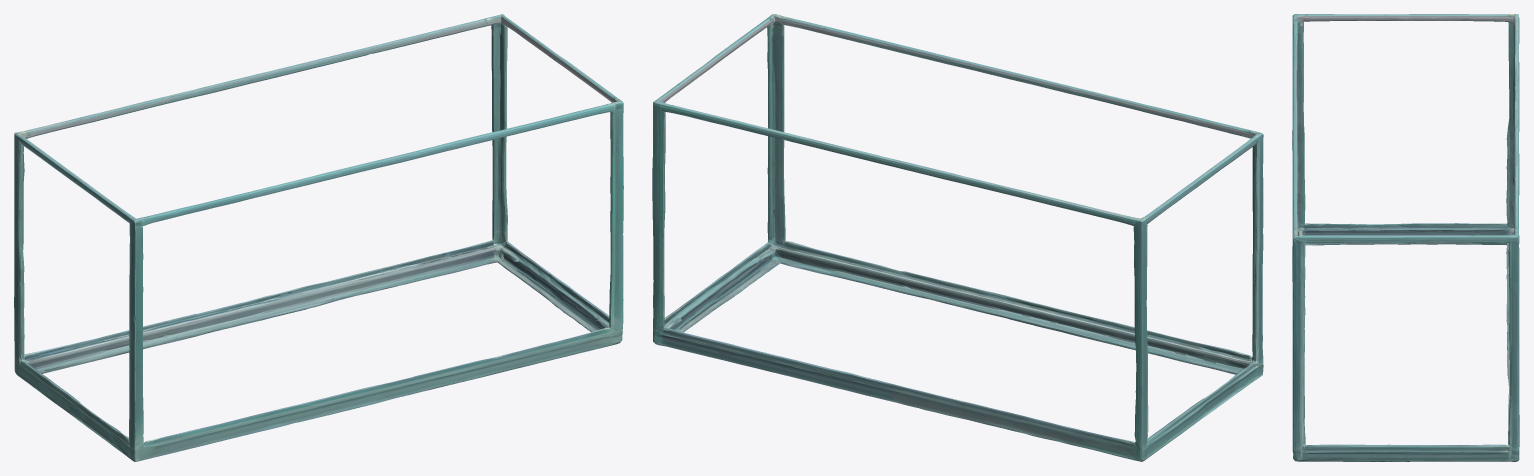
The model's file is aquarium.obj.
The picture shows the model from 3 angles, left to right: view 1: azimuth 30°, elevation 25°; view 2: azimuth 150°, elevation 25°; view 3: azimuth 270°, elevation 25°; orthographic projection. The views are drawn at different scales.
Parts seen in each view (by area): view 1: Glass_Prism_top_open_0512130823_texture; view 2: Glass_Prism_top_open_0512130823_texture; view 3: Glass_Prism_top_open_0512130823_texture.
Boxes of the visible parts, left/top/right/bottom form: Glass_Prism_top_open_0512130823_texture: left=14, top=14, right=623, bottom=461; Glass_Prism_top_open_0512130823_texture: left=652, top=14, right=1263, bottom=461; Glass_Prism_top_open_0512130823_texture: left=1292, top=14, right=1519, bottom=461.
Size of the model in its own units: 2 by 0.95 by 0.861.
